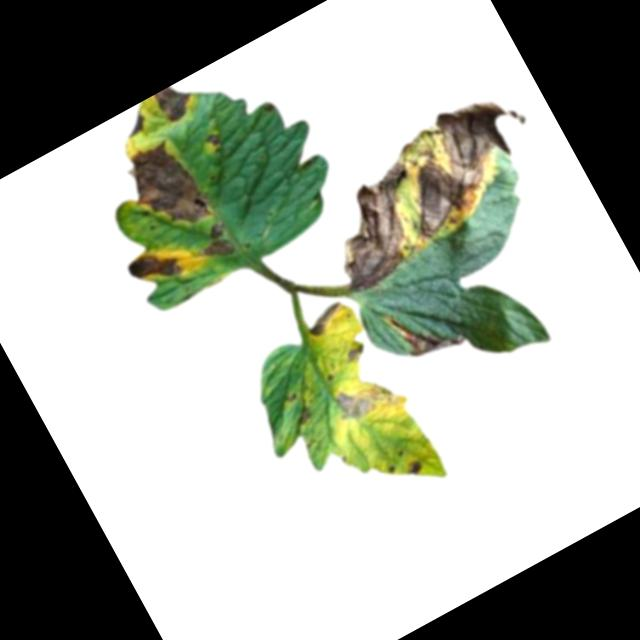Early_blight: (299, 78, 562, 297), (114, 131, 218, 244), (379, 284, 466, 373), (329, 368, 397, 427), (124, 236, 188, 295), (152, 78, 202, 127), (192, 219, 238, 266), (301, 297, 348, 339), (118, 108, 151, 141), (202, 128, 228, 156), (401, 455, 426, 479), (291, 402, 314, 426), (345, 341, 368, 363)
